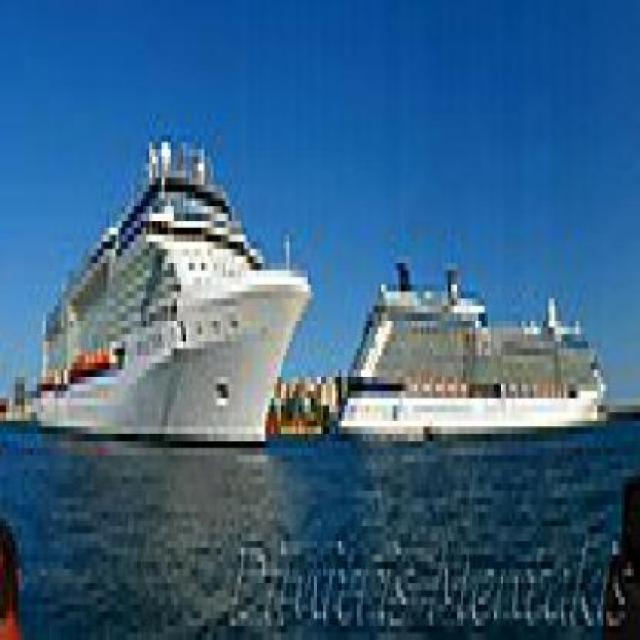cruise: (26, 108, 321, 449), (334, 243, 623, 470)
